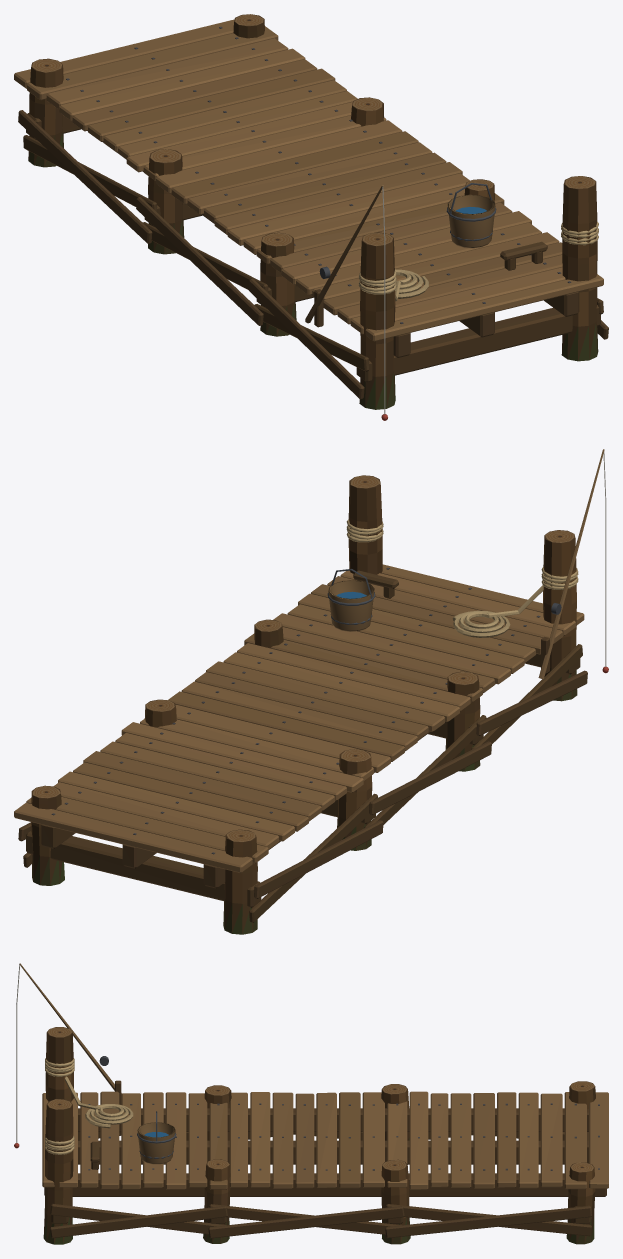
The model's file is dock-jetty.glb.
The picture shows the model from 3 angles, top to bottom: view 1: azimuth 30°, elevation 25°; view 2: azimuth 150°, elevation 25°; view 3: azimuth 270°, elevation 25°; orthographic projection. The views are drawn at different scales.
Parts seen in each view (by area): view 1: dock_jetty; view 2: dock_jetty; view 3: dock_jetty.
Part boxes in pixels (x1,y1,x2,y2): dock_jetty: (14,14,608,420); dock_jetty: (14,449,608,934); dock_jetty: (14,963,608,1244).
Size of the model in its own units: 1.51 by 1.36 by 3.87.
